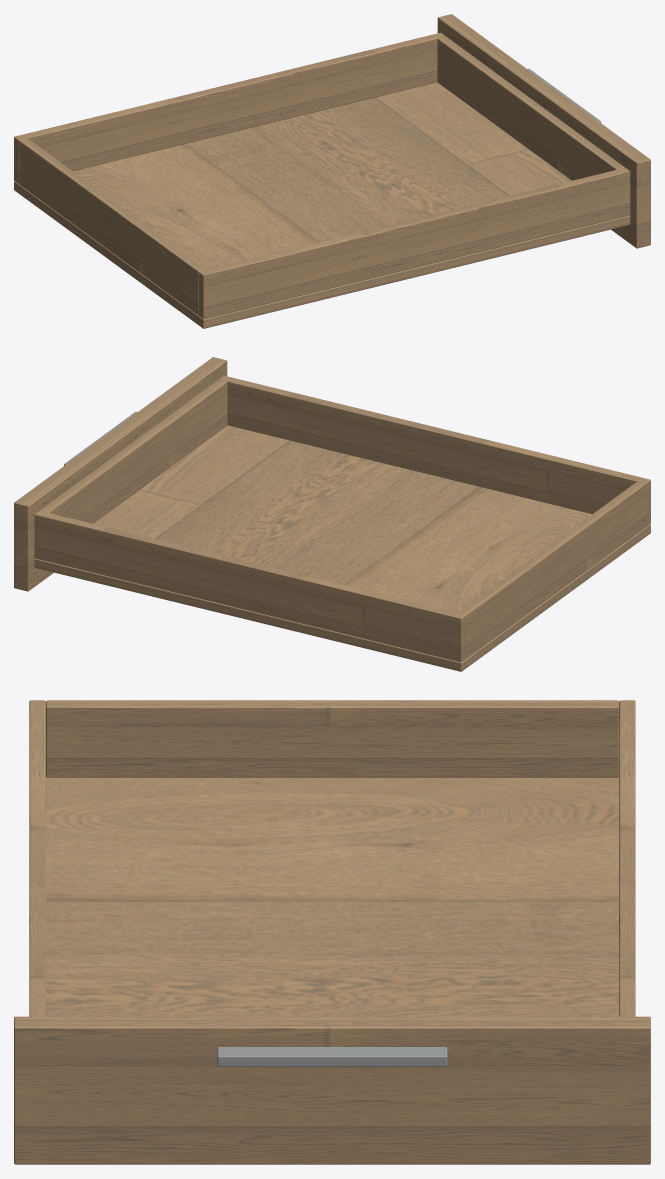
Rendered from kitchen_drawer_0_2.glb.
The picture shows the model from 3 angles, top to bottom: view 1: azimuth 30°, elevation 25°; view 2: azimuth 150°, elevation 25°; view 3: azimuth 270°, elevation 25°; orthographic projection. The views are drawn at different scales.
Parts seen in each view (by area): view 1: kitchen_drawer_0_2_bin_0_floor, kitchen_drawer_0_2, kitchen_drawer_0_2_bin_0_side_-1, kitchen_drawer_0_2_bin_0_end_-1, kitchen_drawer_0_2_front; view 2: kitchen_drawer_0_2_bin_0_floor, kitchen_drawer_0_2, kitchen_drawer_0_2_bin_0_side_-1, kitchen_drawer_0_2_bin_0_end_-1, kitchen_drawer_0_2_front; view 3: kitchen_drawer_0_2_bin_0_floor, kitchen_drawer_0_2_front, kitchen_drawer_0_2_bin_0_end_-1, kitchen_drawer_0_2, kitchen_drawer_0_2_bin_0_side_-1, kitchen_drawer_0_2_pull.
Part boxes in pixels (box(x1,y1,x2,y2)): kitchen_drawer_0_2_bin_0_floor: box(14, 82, 630, 328); kitchen_drawer_0_2: box(14, 32, 624, 183); kitchen_drawer_0_2_bin_0_side_-1: box(198, 168, 630, 319); kitchen_drawer_0_2_bin_0_end_-1: box(19, 138, 206, 315); kitchen_drawer_0_2_front: box(437, 14, 650, 248); kitchen_drawer_0_2_bin_0_floor: box(34, 425, 650, 671); kitchen_drawer_0_2: box(34, 379, 466, 662); kitchen_drawer_0_2_bin_0_side_-1: box(219, 375, 650, 526); kitchen_drawer_0_2_bin_0_end_-1: box(458, 481, 645, 658); kitchen_drawer_0_2_front: box(14, 357, 227, 591); kitchen_drawer_0_2_bin_0_floor: box(46, 777, 618, 1016); kitchen_drawer_0_2_front: box(14, 1016, 650, 1164); kitchen_drawer_0_2_bin_0_end_-1: box(46, 700, 618, 777); kitchen_drawer_0_2: box(619, 700, 635, 1016); kitchen_drawer_0_2_bin_0_side_-1: box(29, 700, 45, 1016); kitchen_drawer_0_2_pull: box(217, 1047, 447, 1066).
Size of the model in its own units: 0.806 by 0.145 by 0.609.
Materials: 2 (1 with a texture image).
